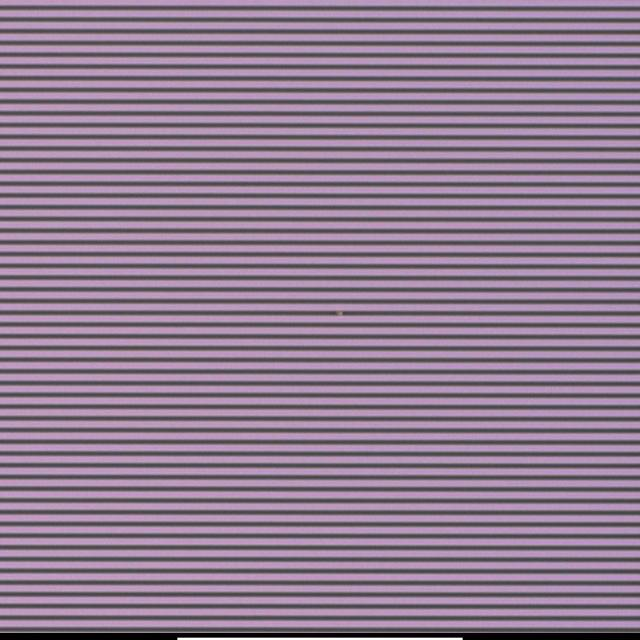03_intrusion: (334, 304, 348, 324)
